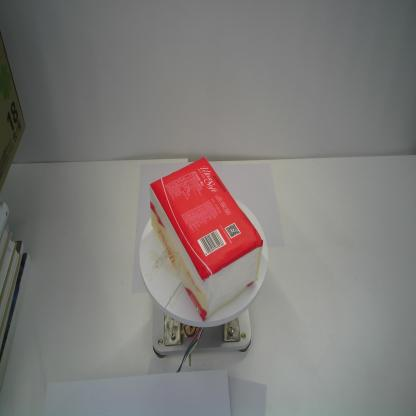Tissue: (149, 156, 264, 322)
